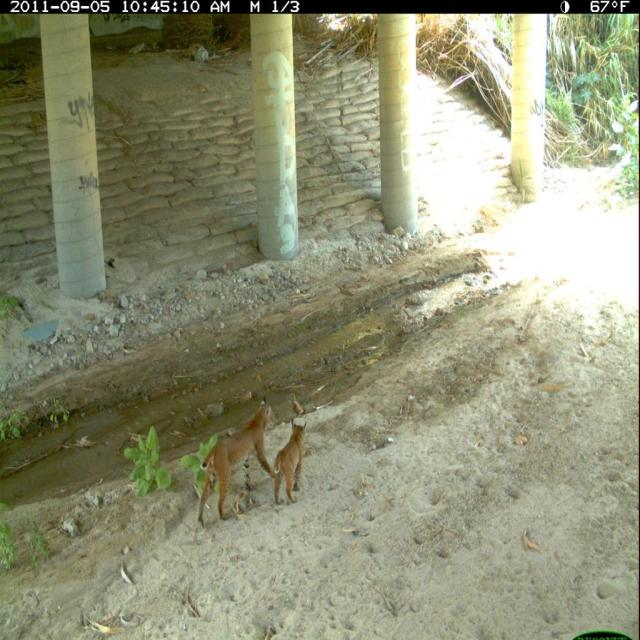bobcat: (194, 393, 278, 534), (272, 414, 316, 510)
